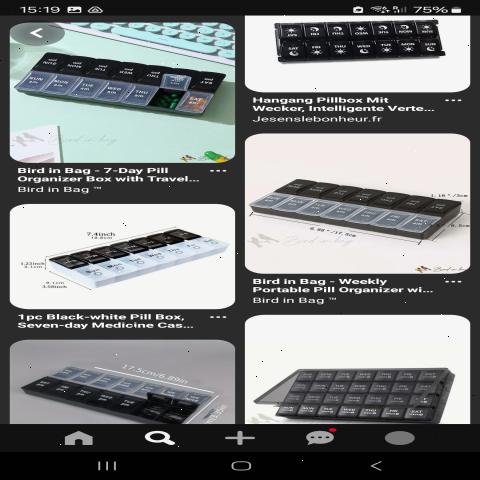PillBox: (255, 168, 463, 253), (31, 220, 233, 302), (13, 47, 230, 123), (24, 361, 234, 422), (258, 19, 462, 65)
